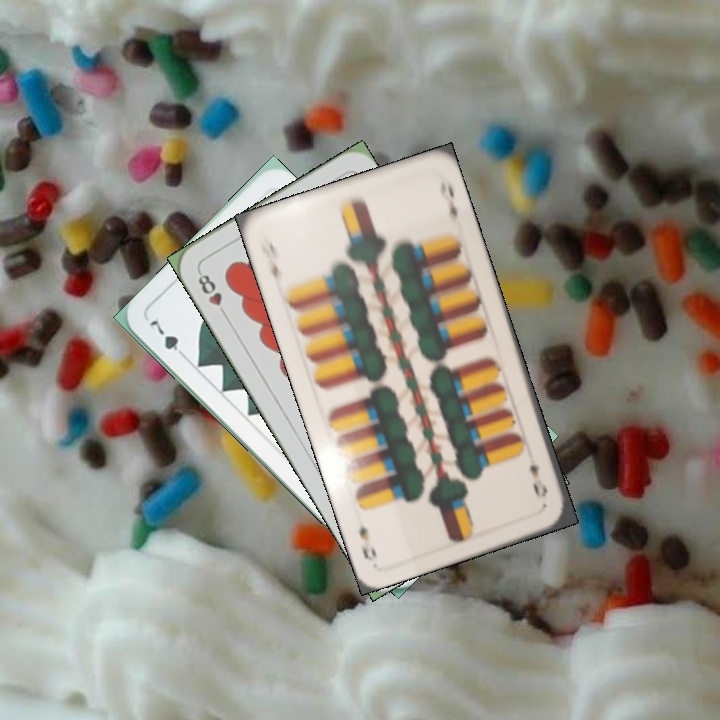E9: (255, 233, 281, 290), (525, 461, 550, 502)
G7: (145, 316, 189, 363)
H8: (193, 267, 231, 320)
